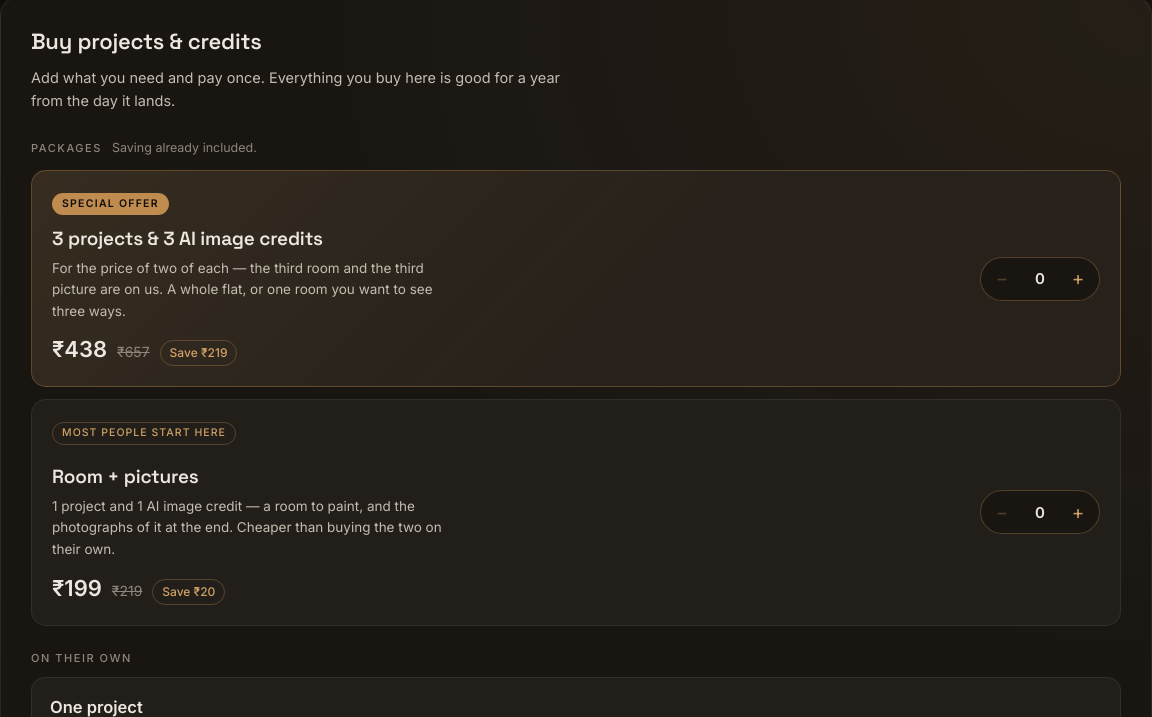
CreditsCart › lets the server put the packages back inside the offer
What coordinates should you click on to do the following:
click the button named "One more Room + pictures"
I would click on:
 (1078, 512)
Its box is [1057,491,1099,533].
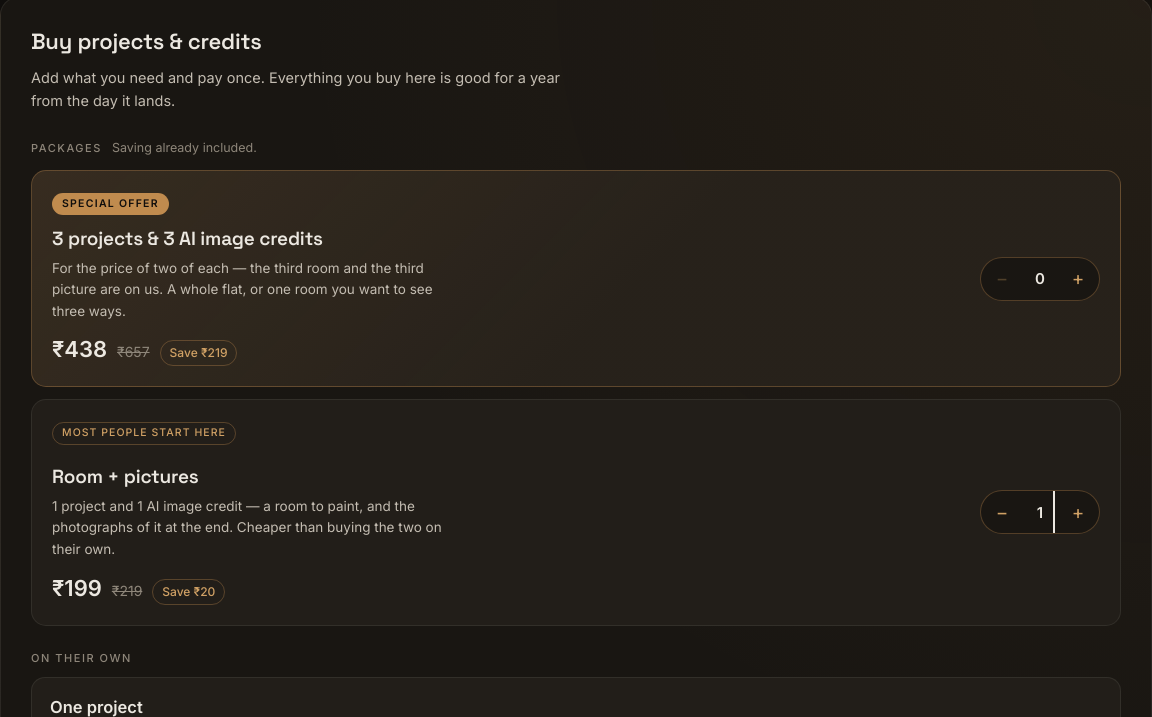
What coordinates should you click on to do the following:
click the button named "One more Room + pictures"
I would click on:
 (1078, 512)
Its box is [1057,491,1099,533].
(page scrolled)
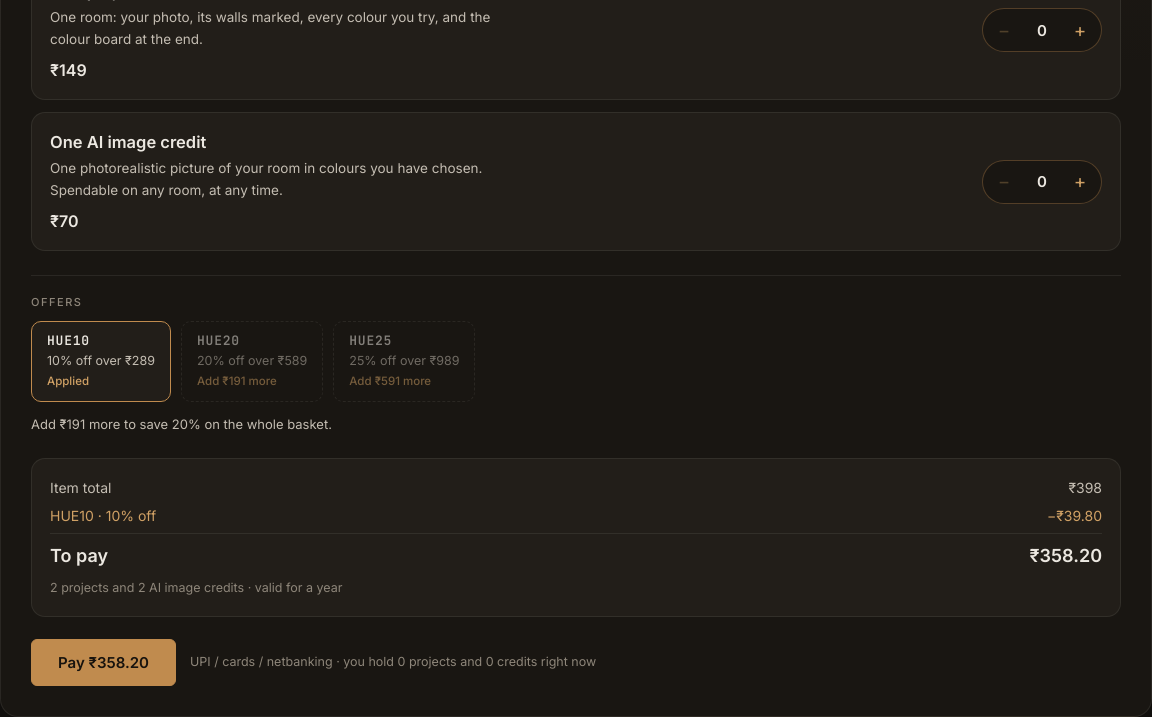
Check: the button "Pay ₹358.20" is shown, box [31,638,176,686]
